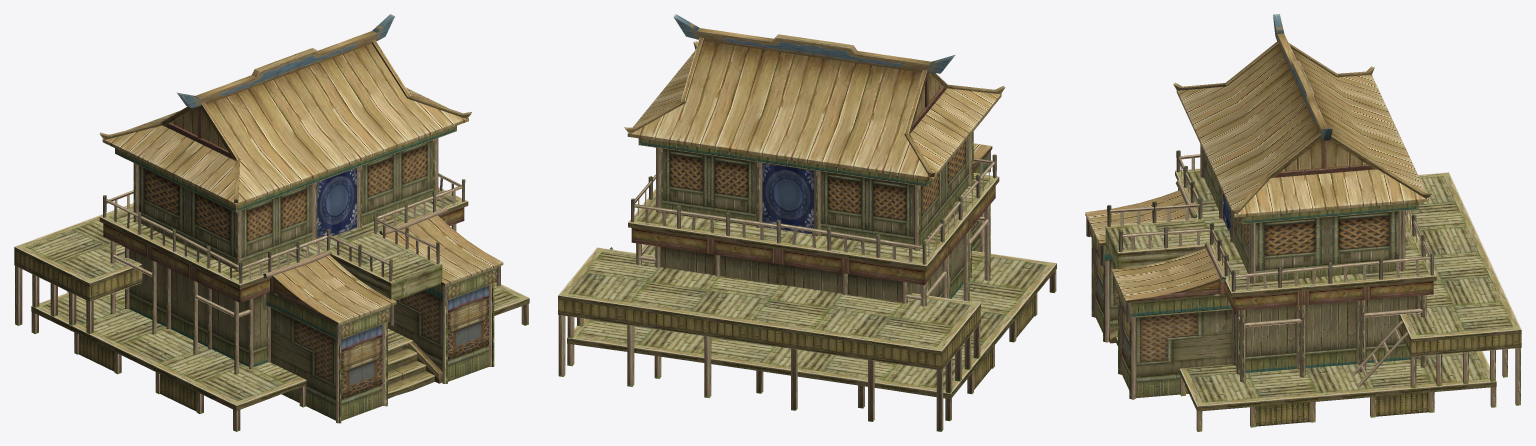
File: caowu.fbx
3 renders of one model, left to right at view 1: azimuth 30°, elevation 25°; view 2: azimuth 150°, elevation 25°; view 3: azimuth 270°, elevation 25°, orthographic. The views are drawn at different scales.
Parts seen in each view (by area): view 1: xkd_caowu; view 2: xkd_caowu; view 3: xkd_caowu.
Part boxes in pixels (x1=…): xkd_caowu: x1=14, y1=14, x2=529, y2=431; xkd_caowu: x1=558, y1=14, x2=1056, y2=431; xkd_caowu: x1=1085, y1=14, x2=1521, y2=431.
Bounding box in the file's own units: 14.12 × 9.67 × 14.14.
